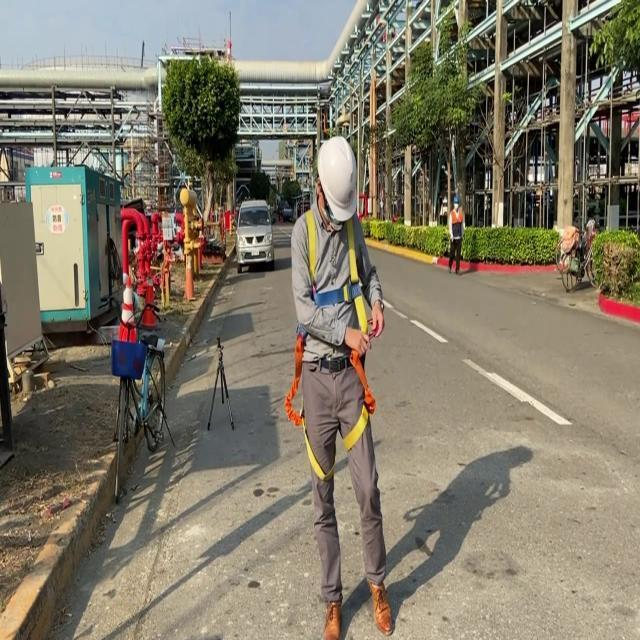Harness: (305, 210, 369, 334), (331, 351, 376, 452), (285, 328, 307, 426), (305, 430, 334, 482)
